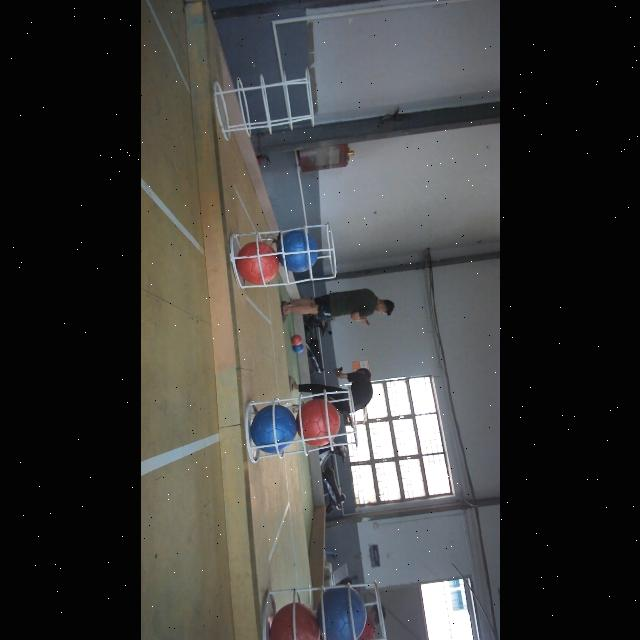B: (320, 584, 368, 640), (250, 403, 298, 455), (276, 230, 318, 272)
R: (296, 398, 340, 448), (269, 602, 319, 640), (237, 241, 280, 283)
